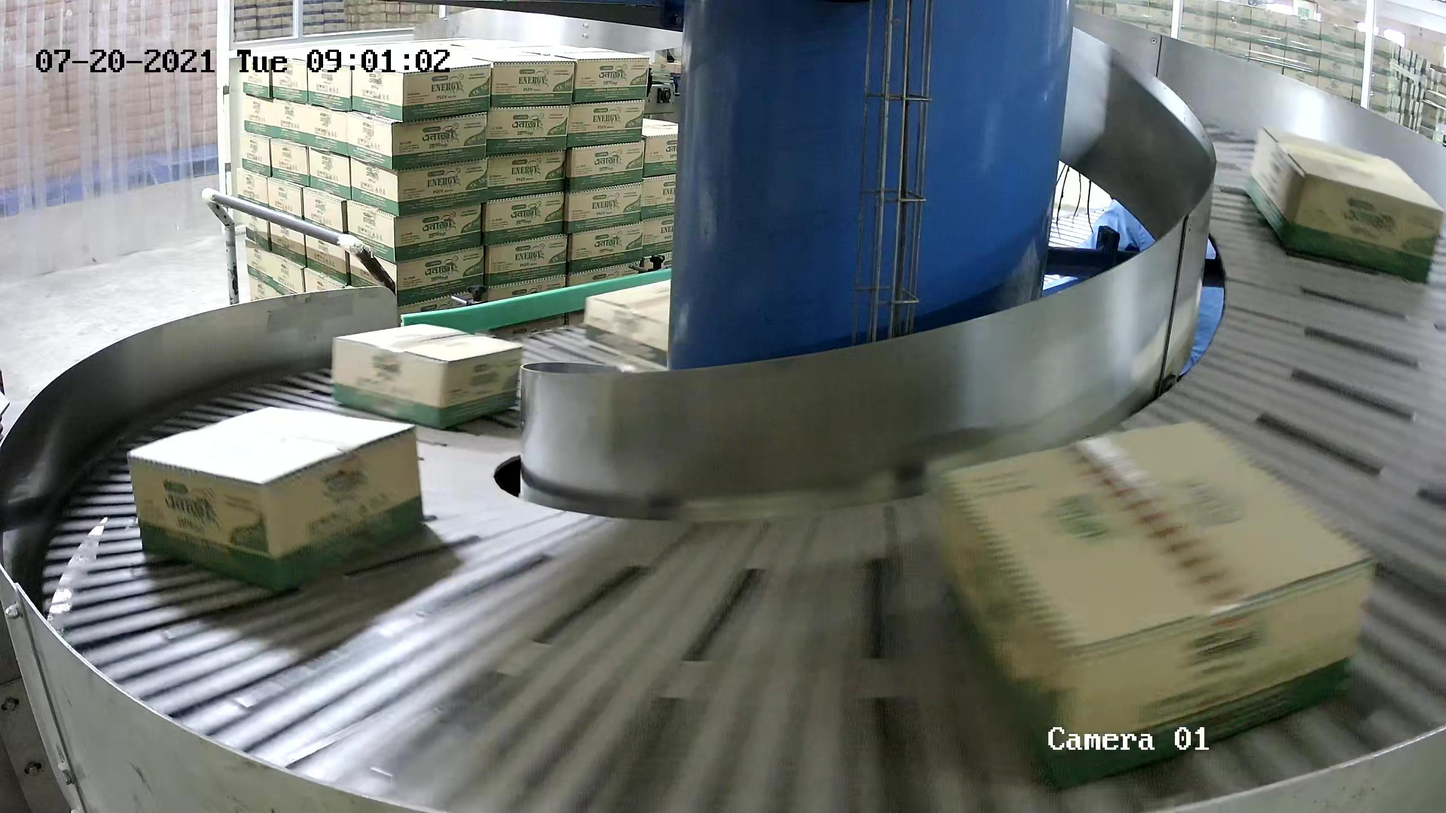Box: (939, 419, 1376, 793), (126, 406, 424, 595), (1243, 125, 1446, 285), (330, 322, 523, 430), (583, 269, 751, 371)
